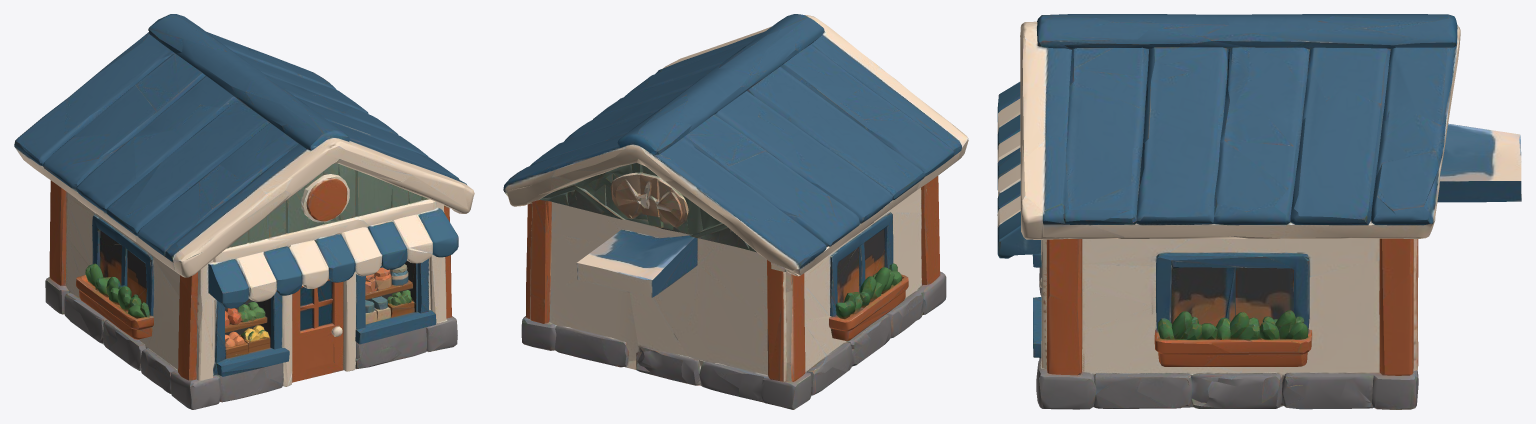
Rendered from common-buildings-corner-retail-shell-compact-normal.glb.
3 views of the same model, side by side, from view 1: azimuth 30°, elevation 25°; view 2: azimuth 150°, elevation 25°; view 3: azimuth 270°, elevation 25° (orthographic). The views are drawn at different scales.
Visible parts, largest first — view 1: Mesh_0; view 2: Mesh_0; view 3: Mesh_0.
Boxes of the visible parts, box(x1,y1,x2,y2) form: Mesh_0: box(14, 14, 474, 409); Mesh_0: box(503, 14, 968, 409); Mesh_0: box(997, 14, 1521, 409).
Size of the model in its own units: 2.51 by 1.98 by 3.
1 material, 1 textured.
